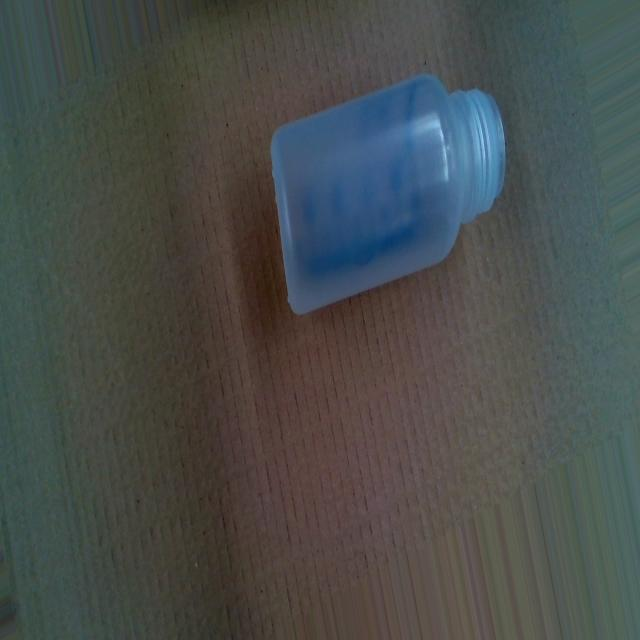bottle: (269, 75, 507, 318)
